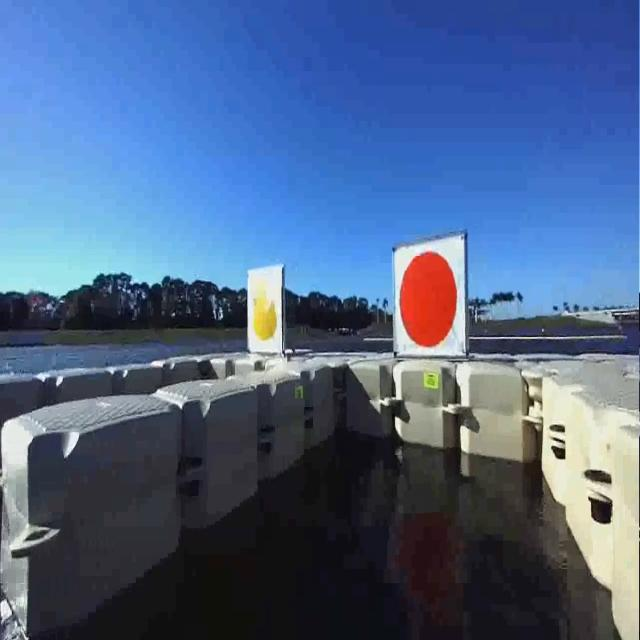red-dot: (391, 234, 465, 350)
yellow-duck: (250, 275, 284, 351)
